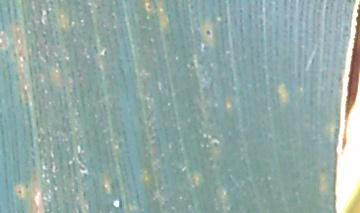tarspot: (185, 60, 197, 71), (209, 139, 219, 148), (204, 29, 212, 38), (101, 47, 108, 56), (16, 188, 24, 195), (145, 4, 152, 10)
